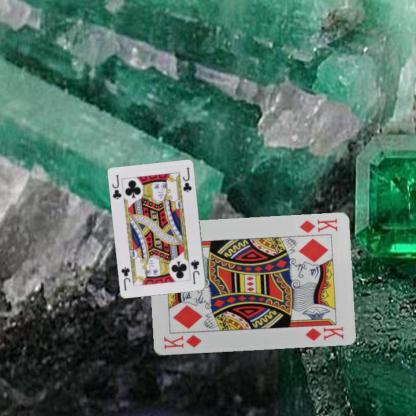Jc: (188, 257, 201, 286), (110, 172, 122, 201)
Kd: (296, 216, 338, 235), (160, 332, 202, 350)
